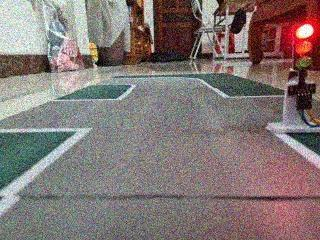red: (281, 13, 317, 88)
